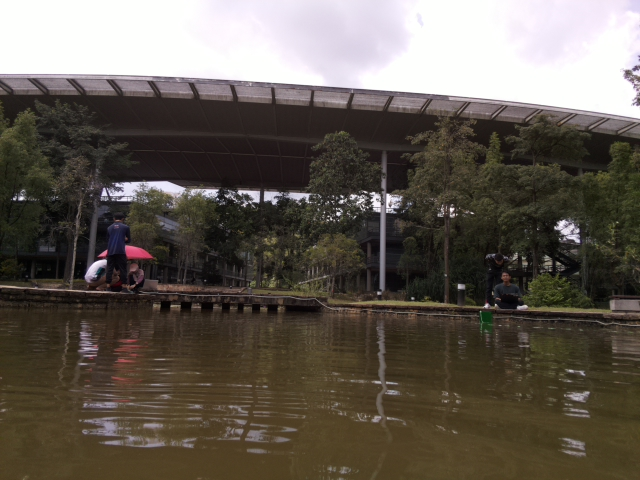obstacle: (477, 309, 496, 325)
